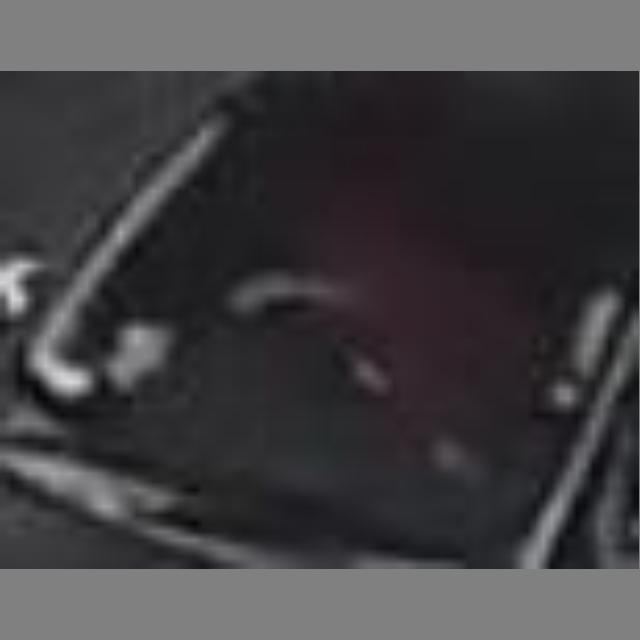tidak-pakai: (216, 171, 515, 445)
